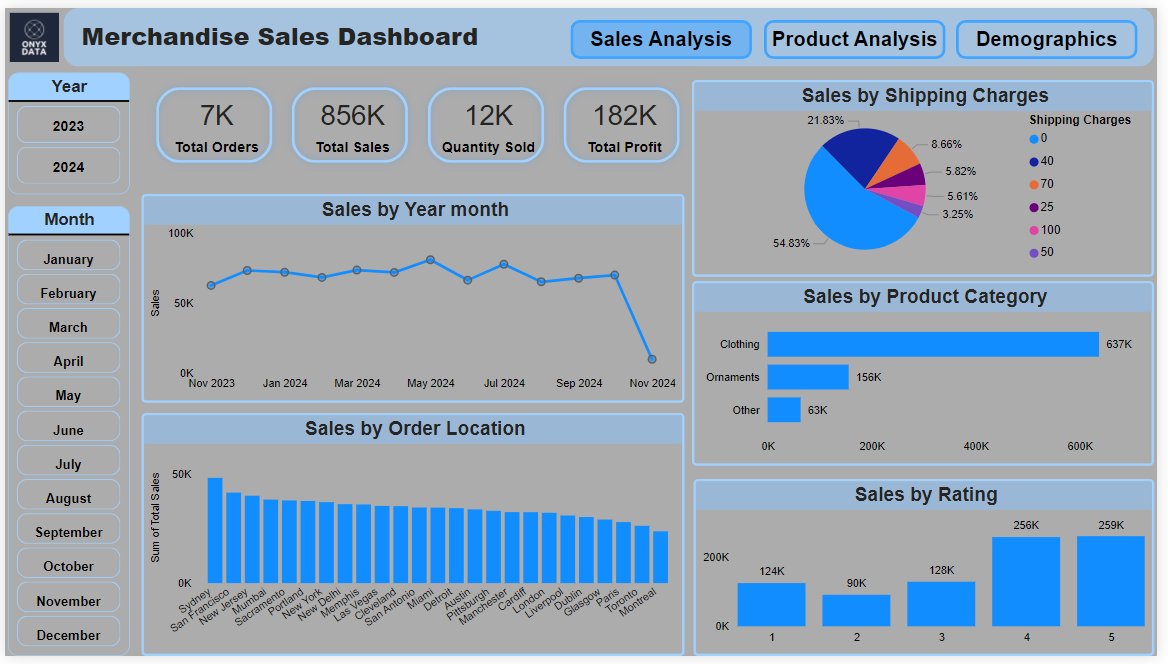

What the dashboard file says about the page in this screenshot:
{"tool":"powerbi","page":{"name":"Sales Analysis","canvas":[1280,720],"ordinal":0},"visuals":[{"type":"image","box":[0,0,64.8,64.8],"z":0},{"type":"shape","box":[65,0,1211.7,65],"z":1000},{"type":"lineChart","title":"Sales by Year month","fields":{"Category":["Data.Year month"],"Y":["Sum(Data.Total Sales)"]},"box":[151.7,206.7,603.3,231.7],"z":2000},{"type":"textbox","box":[80,6.7,466.7,50],"z":3000},{"type":"advancedSlicerVisual","fields":{"Values":["Data.Order Date.Variation.Date Hierarchy.Year"]},"box":[3.3,71.7,135,135],"z":4000},{"type":"advancedSlicerVisual","fields":{"Values":["Data.Order Date.Variation.Date Hierarchy.Month"]},"box":[3.3,220,135,500],"z":5000},{"type":"cardVisual","fields":{"Data":["CountNonNull(Data.Order ID)","Sum(Data.Total Sales)","Sum(Data.Quantity)","Sum(Data.Total Profit)"]},"box":[151.7,71.7,616.7,116.7],"z":6000},{"type":"clusteredColumnChart","title":"Sales by Order Location","fields":{"Category":["Data.Order Location"],"Y":["Sum(Data.Total Sales)"]},"box":[151.7,450,603.3,270],"z":7000},{"type":"pieChart","title":"Sales by Shipping Charges","fields":{"Category":["Data.Shipping Charges"],"Y":["Sum(Data.Total Sales)"]},"box":[763.3,80,513.3,218.3],"z":8000},{"type":"clusteredBarChart","title":"Sales by Product Category","fields":{"Category":["Data.Product Category"],"Y":["Sum(Data.Total Sales)"]},"box":[763.3,303.3,513.3,205],"z":9000},{"type":"clusteredColumnChart","title":"Sales by Rating","fields":{"Y":["Sum(Data.Total Sales)"],"Category":["Data.Rating"]},"box":[765,523.3,511.7,196.7],"z":10000},{"type":"actionButton","box":[1056.7,13.3,201.7,43.3],"z":11000},{"type":"actionButton","box":[843.3,13.3,201.7,43.3],"z":12000},{"type":"actionButton","box":[628.3,13.3,201.7,43.3],"z":13000}]}

Visuals, with their boxes in screenshot pixels (x1, y1, x2, y2), scaled from the page's 1280x720 canvas onto the 1168x664 screenshot:
image: {"x1": 0, "y1": 0, "x2": 59, "y2": 60}
shape: {"x1": 59, "y1": 0, "x2": 1165, "y2": 60}
"Sales by Year month" lineChart: {"x1": 138, "y1": 191, "x2": 689, "y2": 404}
textbox: {"x1": 73, "y1": 6, "x2": 499, "y2": 52}
advancedSlicerVisual - Data.Order Date.Variation.Date Hierarchy.Year: {"x1": 3, "y1": 66, "x2": 126, "y2": 191}
advancedSlicerVisual - Data.Order Date.Variation.Date Hierarchy.Month: {"x1": 3, "y1": 203, "x2": 126, "y2": 663}
cardVisual - CountNonNull(Data.Order ID) x Sum(Data.Total Sales): {"x1": 138, "y1": 66, "x2": 701, "y2": 174}
"Sales by Order Location" clusteredColumnChart: {"x1": 138, "y1": 415, "x2": 689, "y2": 663}
"Sales by Shipping Charges" pieChart: {"x1": 697, "y1": 74, "x2": 1165, "y2": 275}
"Sales by Product Category" clusteredBarChart: {"x1": 697, "y1": 280, "x2": 1165, "y2": 469}
"Sales by Rating" clusteredColumnChart: {"x1": 698, "y1": 483, "x2": 1165, "y2": 663}
actionButton: {"x1": 964, "y1": 12, "x2": 1148, "y2": 52}
actionButton: {"x1": 770, "y1": 12, "x2": 954, "y2": 52}
actionButton: {"x1": 573, "y1": 12, "x2": 757, "y2": 52}
